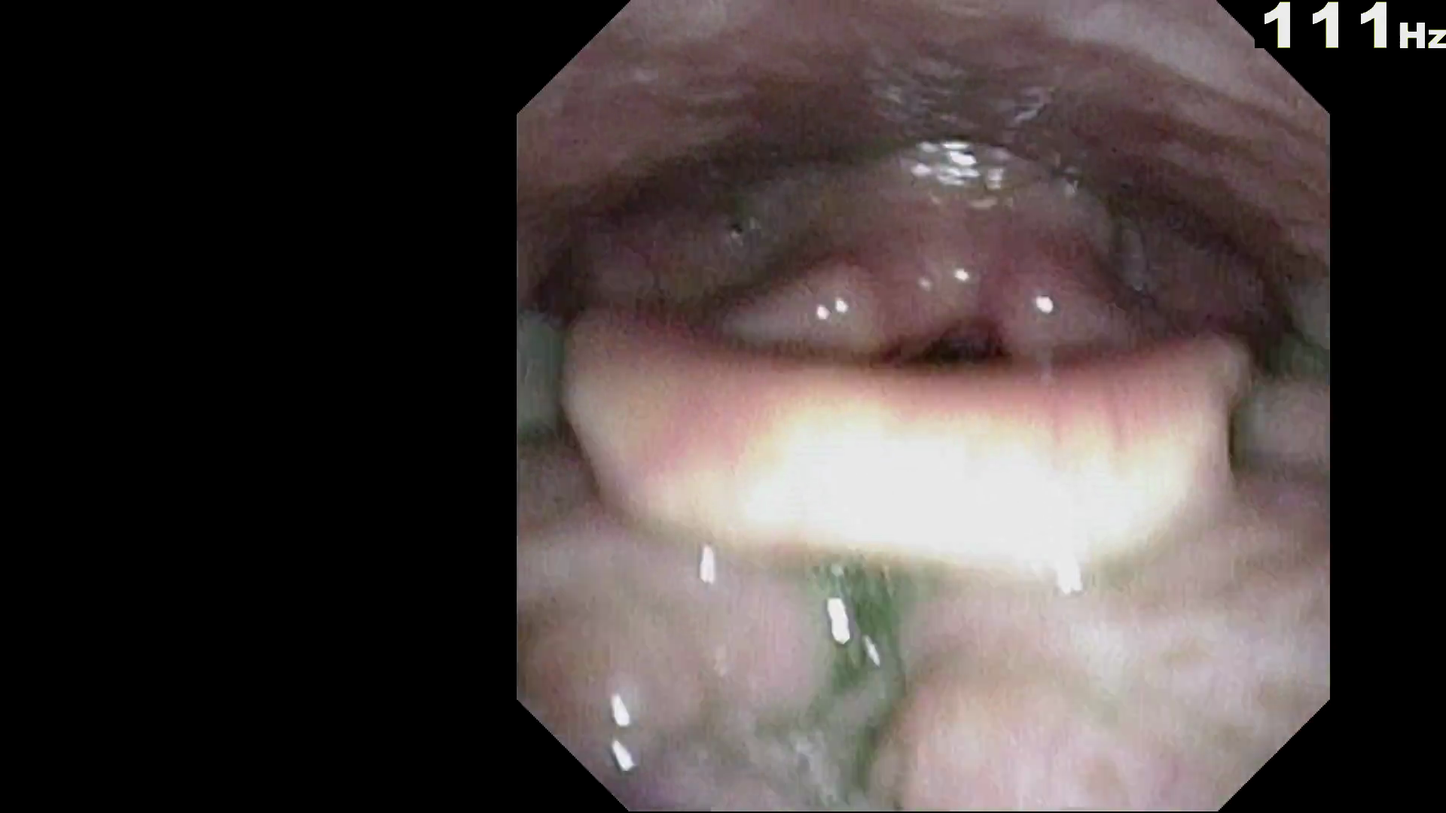epiglottis: (538, 239, 1296, 528)
